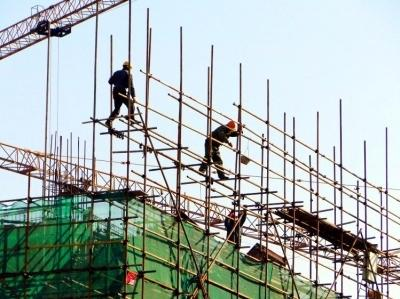helmet: (227, 118, 238, 132), (122, 61, 133, 68)
